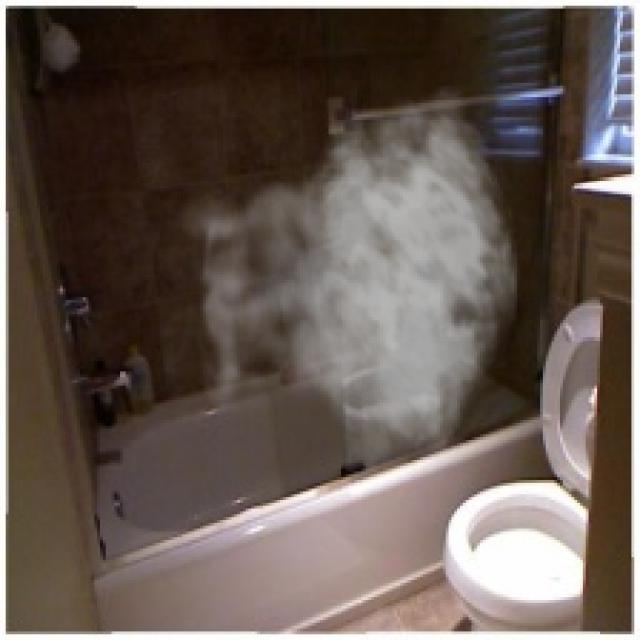smoke: (169, 86, 520, 480)
